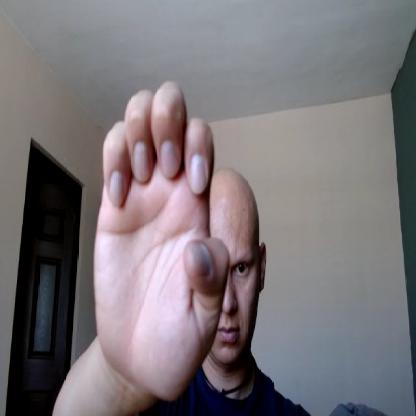E: (94, 81, 232, 402)
